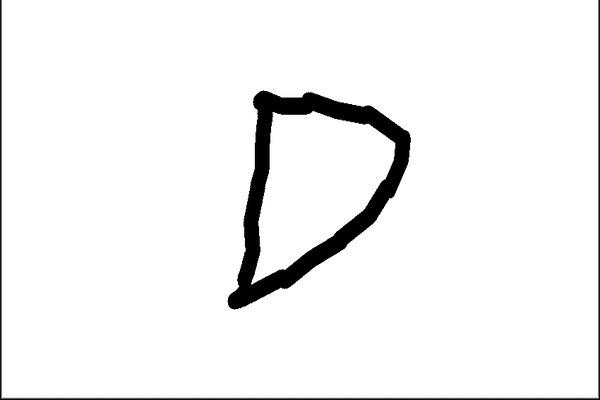D: (225, 84, 415, 314)
